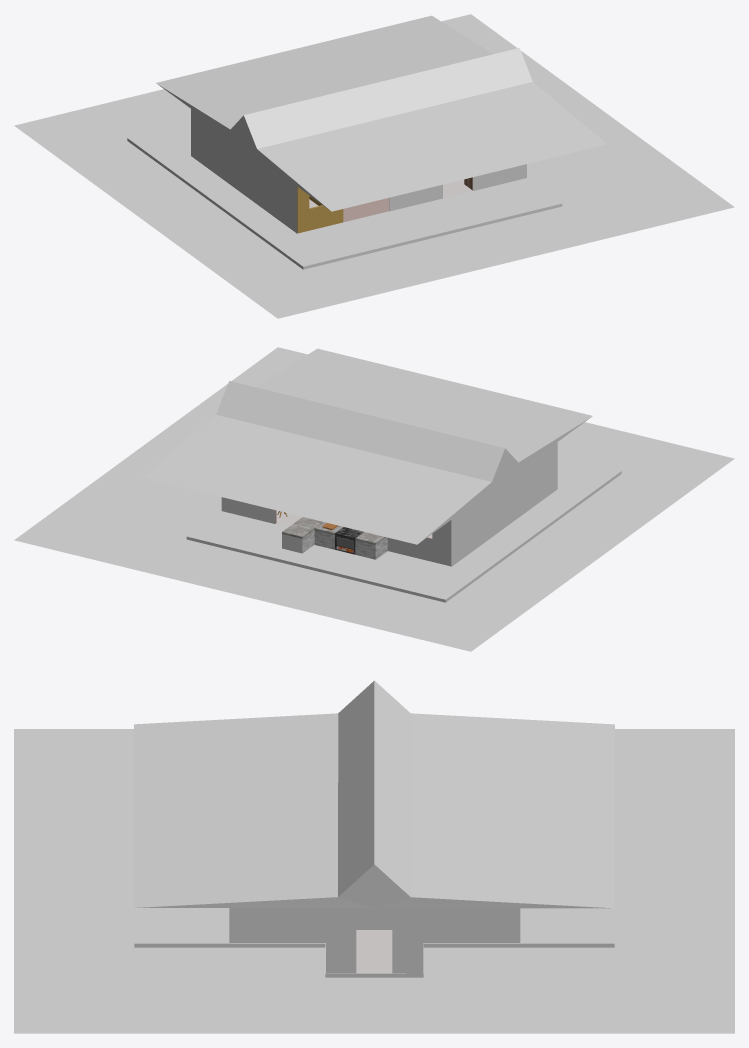
File: Cas4Sin.fbx
3 renders of one model, top to bottom at view 1: azimuth 30°, elevation 25°; view 2: azimuth 150°, elevation 25°; view 3: azimuth 270°, elevation 25°, orthographic. The views are drawn at different scales.
Visible parts, largest first — view 1: Techo, Suelo exterior, Base casa, ParedExter, Baño, Estudio; view 2: Techo, Suelo exterior, Base casa, ParedExter, Recamara, Cube.081; view 3: Suelo exterior, Techo, ParedExter, Base casa, Floor, Base entrada.
Boxes of the visible parts, x1=… form: Techo: x1=156, y1=15, x2=606, y2=211; Suelo exterior: x1=14, y1=14, x2=734, y2=318; Base casa: x1=127, y1=122, x2=562, y2=269; ParedExter: x1=191, y1=109, x2=526, y2=233; Baño: x1=297, y1=187, x2=343, y2=233; Estudio: x1=343, y1=198, x2=388, y2=222; Techo: x1=141, y1=348, x2=592, y2=544; Suelo exterior: x1=14, y1=347, x2=734, y2=651; Base casa: x1=186, y1=455, x2=621, y2=602; ParedExter: x1=221, y1=442, x2=557, y2=566; Recamara: x1=387, y1=520, x2=451, y2=566; Cube.081: x1=355, y1=537, x2=387, y2=559; Suelo exterior: x1=14, y1=729, x2=734, y2=1033; Techo: x1=134, y1=680, x2=614, y2=908; ParedExter: x1=229, y1=908, x2=520, y2=973; Base casa: x1=134, y1=908, x2=614, y2=947; Floor: x1=356, y1=942, x2=392, y2=972; Base entrada: x1=325, y1=943, x2=423, y2=977.
Size of the model in its own units: 3000 by 528 by 3000.
